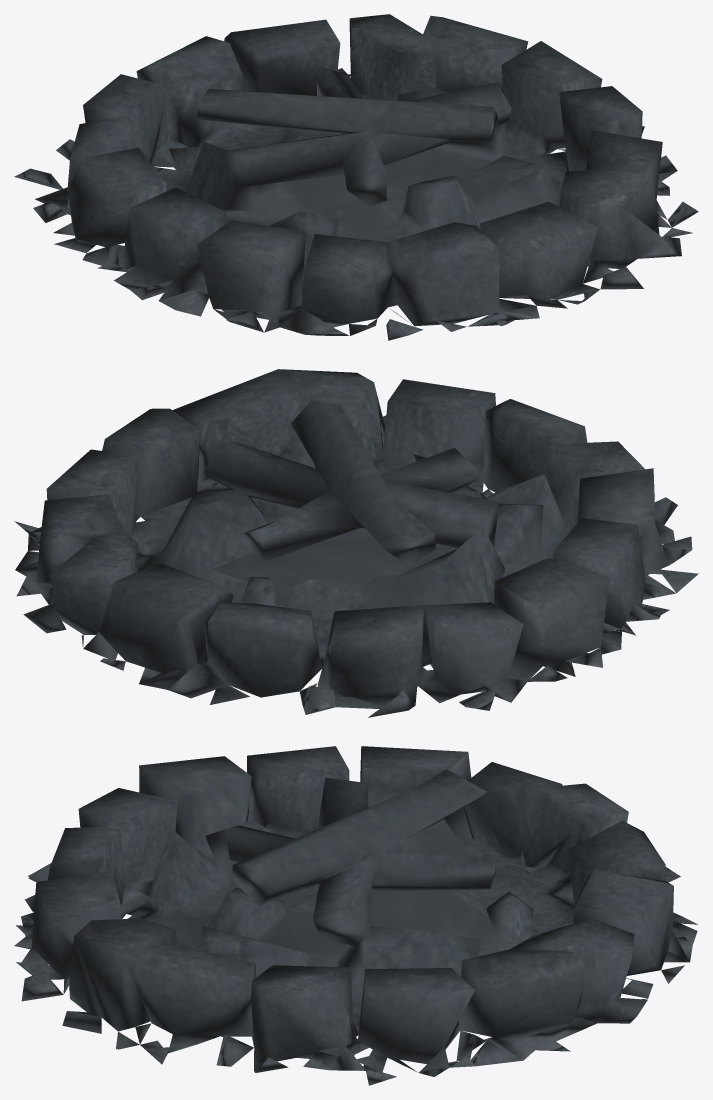
Rendered from prp_campfire_a.glb.
3 renders of one model, top to bottom at view 1: azimuth 30°, elevation 25°; view 2: azimuth 150°, elevation 25°; view 3: azimuth 270°, elevation 25°, orthographic. The views are drawn at different scales.
Visible parts, largest first — view 1: prp_campfire_a; view 2: prp_campfire_a; view 3: prp_campfire_a.
Part boxes in pixels (x1,y1,x2,y2): prp_campfire_a: (14,14,698,340); prp_campfire_a: (14,369,698,717); prp_campfire_a: (14,746,697,1085).
Bounding box in the file's own units: 2.53 × 0.5 × 2.52.
Materials: 1 (1 with a texture image).
